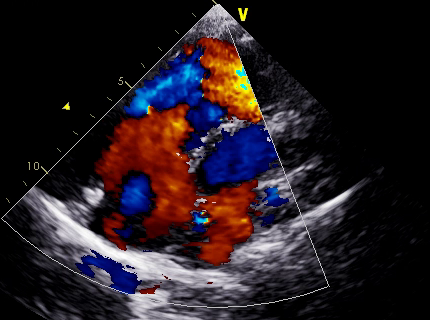TR: (126, 101, 199, 206)
